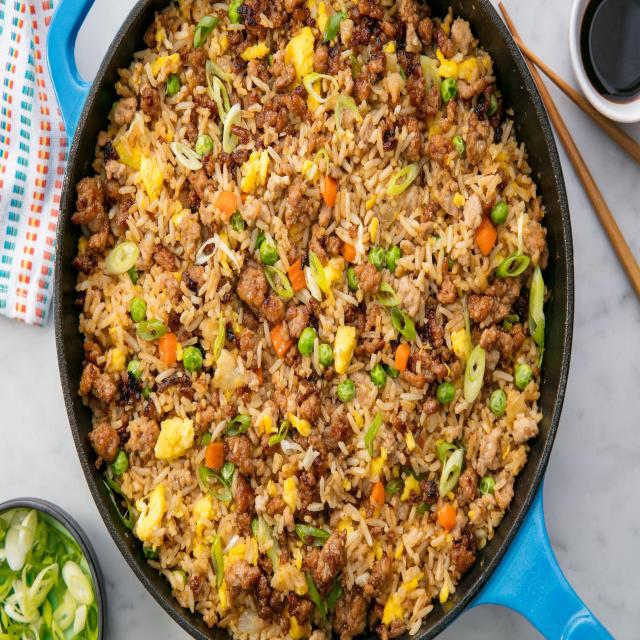Nasi Goreng: (70, 0, 550, 638)
